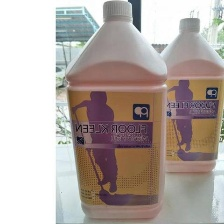cleaning_solution: (63, 0, 170, 222), (152, 14, 224, 177)
